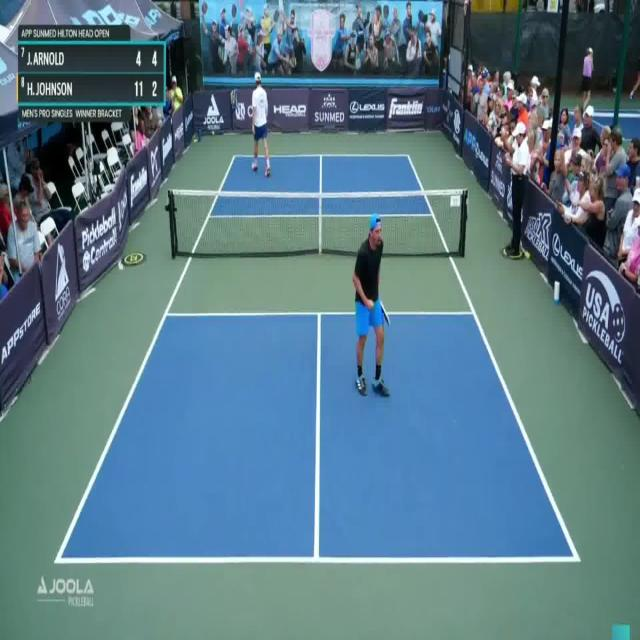ball: (211, 128, 215, 136)
